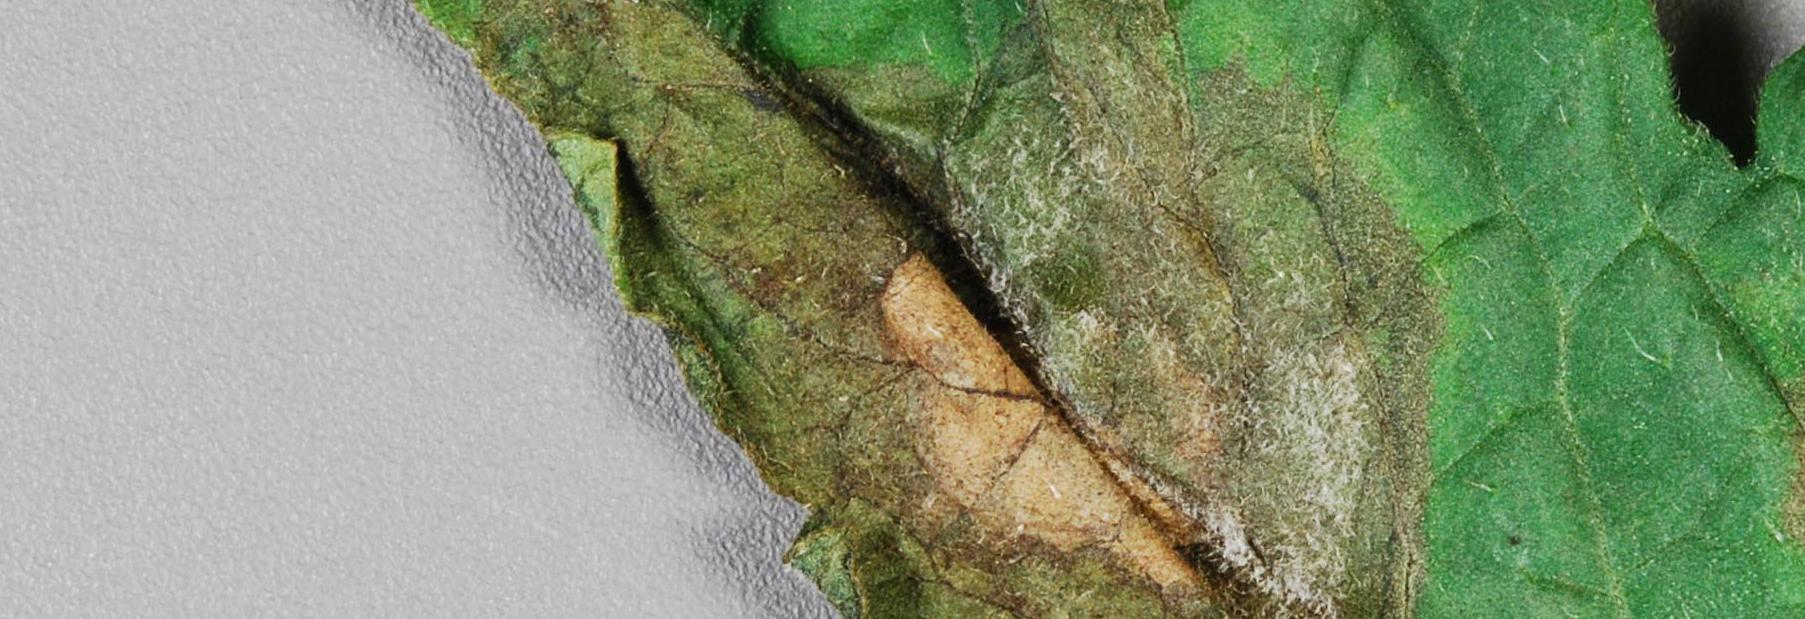Tomato leaf late blight: (29, 0, 1805, 619)
